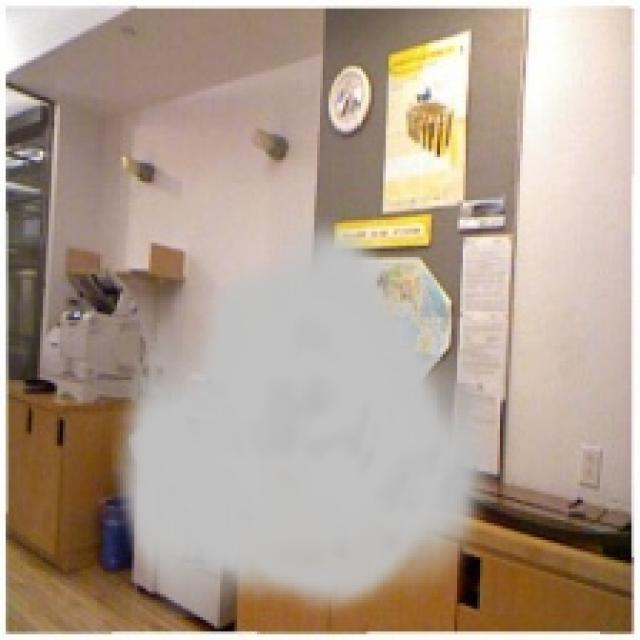Smoke: (111, 217, 503, 617)
